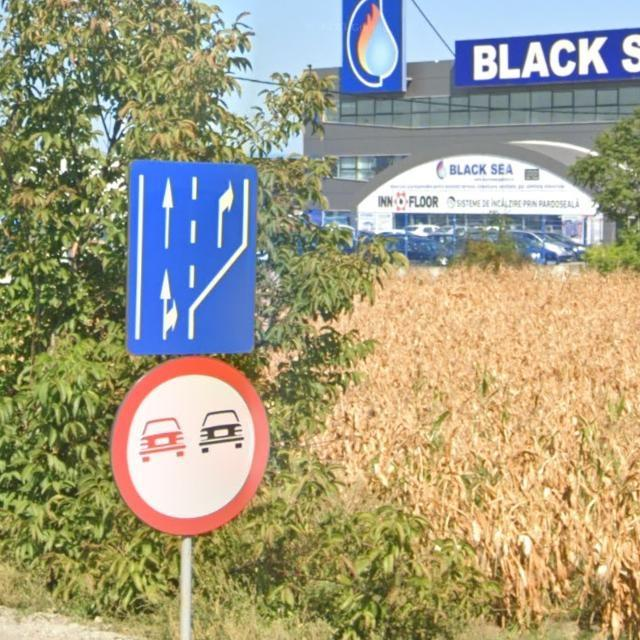forb_overtake: (107, 356, 268, 531)
